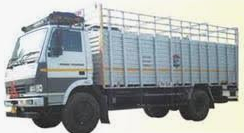truck: (3, 1, 240, 133)
